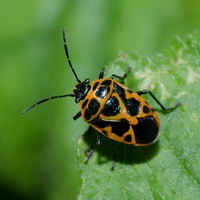insect: (21, 27, 180, 145)
